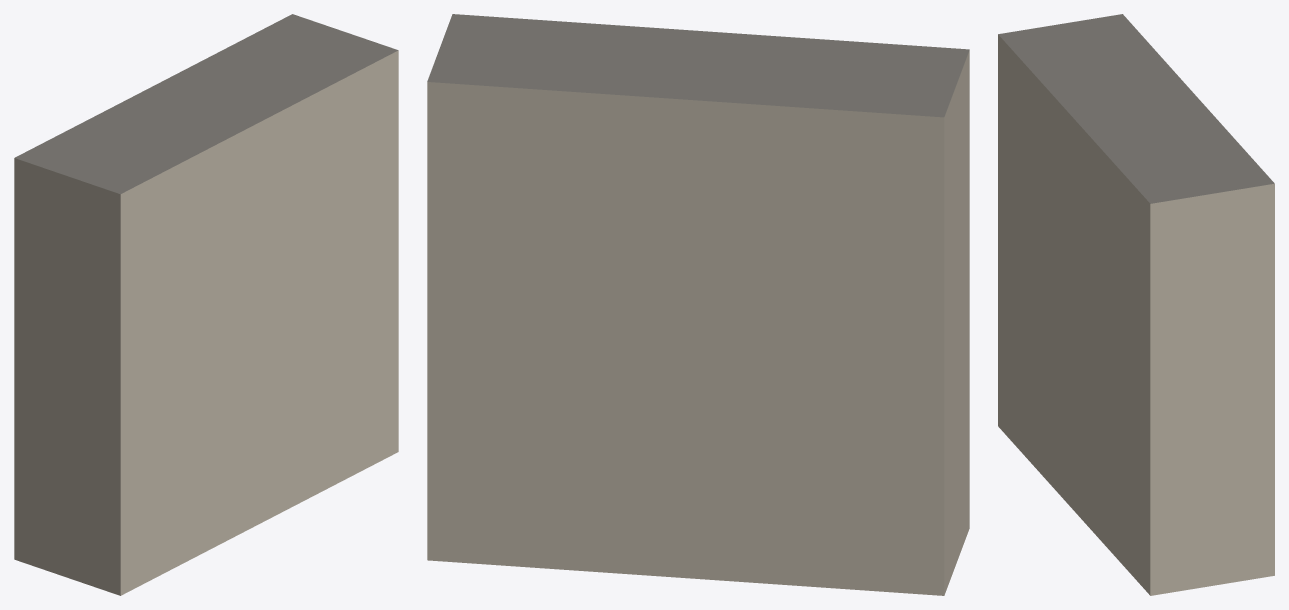
The picture shows the model from 3 angles, left to right: view 1: azimuth 30°, elevation 25°; view 2: azimuth 150°, elevation 25°; view 3: azimuth 270°, elevation 25°; orthographic projection. The views are drawn at different scales.
Visible parts, largest first — view 1: HP-w1198568464; view 2: HP-w1198568464; view 3: HP-w1198568464.
Part boxes in pixels (x1,y1,x2,y2): HP-w1198568464: [14, 14, 398, 595]; HP-w1198568464: [427, 14, 969, 595]; HP-w1198568464: [998, 14, 1274, 595].
Size of the model in its own units: 18.69 by 18 by 11.52.
